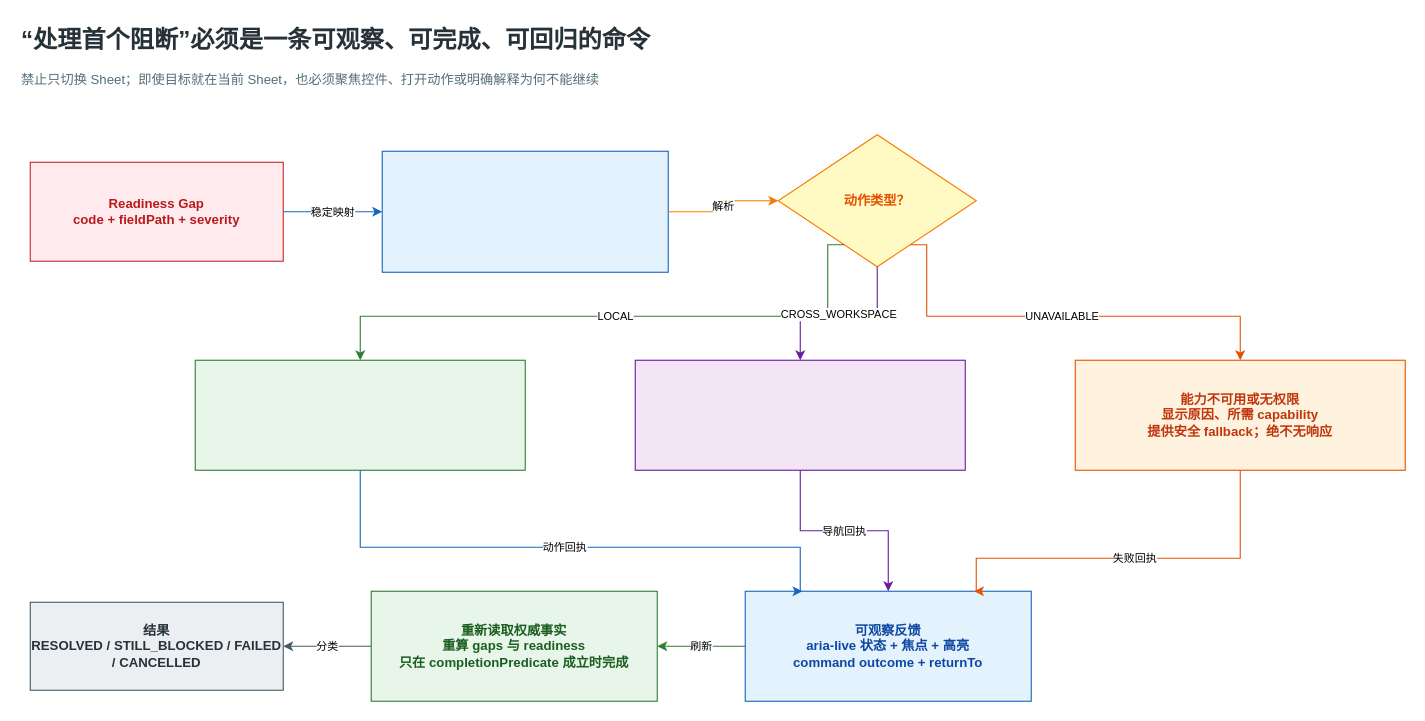
This 1425x721 diagram has some shape labels left out. The centre of each missing label's shape, as x and y in pixels:
"Remediation Descriptor task + anchor + actionKind completionPredicate + fallback" belongs at (x=524, y=211).
"当前/其他步骤内动作 切换 task + 滚动 + 聚焦 高亮字段或打开 Picker" belongs at (x=359, y=414).
"跨工作区动作 Exact Deep Link Resolver Author / Rehearsal / Correctness / ANEKE" belongs at (x=799, y=414).
